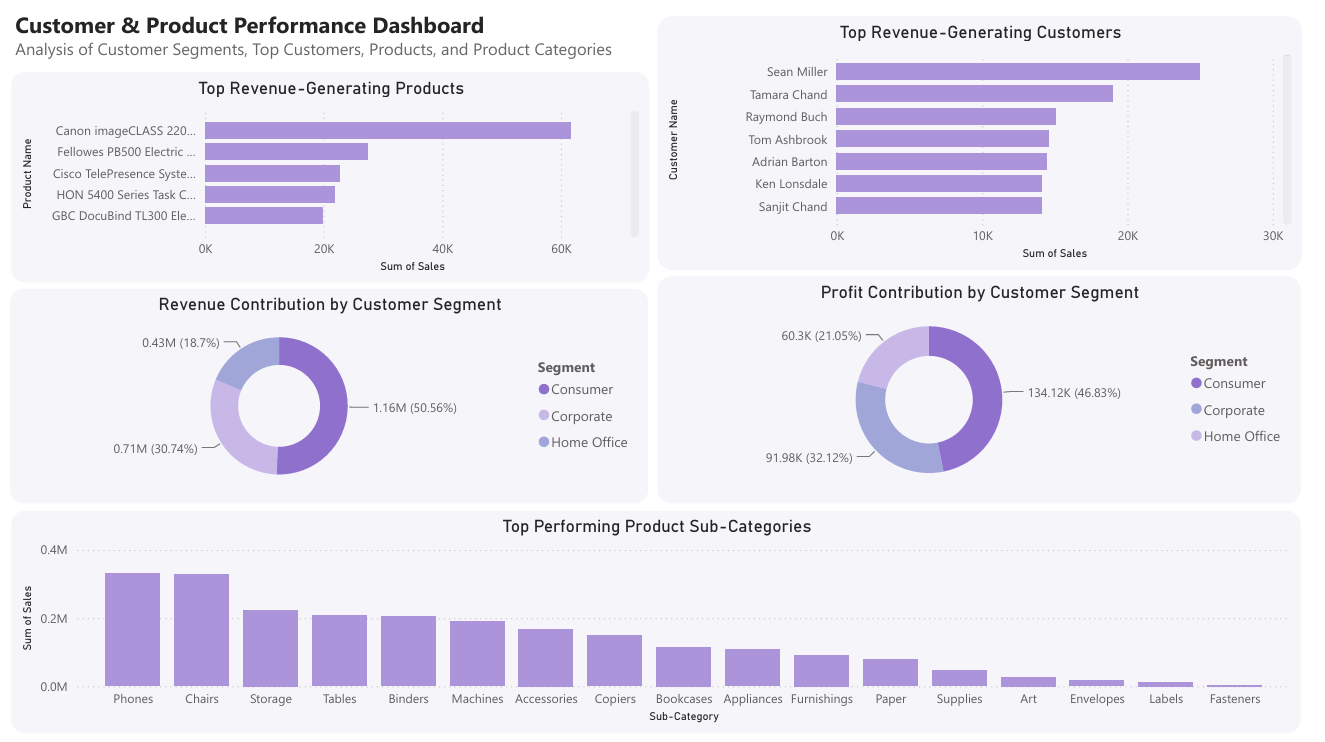

The dashboard page shown, as its layout file describes it:
{"tool":"powerbi","page":{"name":" Customer & Product Analytics Dashboard","canvas":[1280,720],"ordinal":1},"visuals":[{"type":"clusteredBarChart","title":"Top Revenue-Generating Products","fields":{"Category":["Sample - Superstore.Product Name"],"Y":["Sum(Sample - Superstore.Sales)"]},"box":[12.3,65.4,619.2,205.4],"z":0},{"type":"clusteredBarChart","title":"Top Revenue-Generating Customers","fields":{"Category":["Sample - Superstore.Customer Name"],"Y":["Sum(Sample - Superstore.Sales)"]},"box":[637.5,11.2,626.2,247.5],"z":1000},{"type":"donutChart","title":"Revenue Contribution by Customer Segment","fields":{"Category":["Sample - Superstore.Segment"],"Y":["Sum(Sample - Superstore.Sales)"]},"box":[10.9,275.5,620,210],"z":2000},{"type":"donutChart","title":"Profit Contribution by Customer Segment","fields":{"Category":["Sample - Superstore.Segment"],"Y":["Sum(Sample - Superstore.Profit)"]},"box":[637.8,262.8,625.6,222.2],"z":3000},{"type":"columnChart","title":"Top Performing Product Sub-Categories","fields":{"Category":["Sample - Superstore.Sub-Category"],"Y":["Sum(Sample - Superstore.Sales)"]},"box":[12.2,490,1251.1,216.7],"z":4000},{"type":"textbox","box":[12.3,0,673.8,60],"z":5000}]}

Visuals, with their boxes in screenshot pixels (x1, y1, x2, y2), scaled from the page's 1280x720 canvas onto the 1325x742 screenshot:
"Top Revenue-Generating Products" clusteredBarChart: <box>13,67,654,279</box>
"Top Revenue-Generating Customers" clusteredBarChart: <box>660,12,1308,267</box>
"Revenue Contribution by Customer Segment" donutChart: <box>11,284,653,500</box>
"Profit Contribution by Customer Segment" donutChart: <box>660,271,1308,500</box>
"Top Performing Product Sub-Categories" columnChart: <box>13,505,1308,728</box>
textbox: <box>13,0,710,62</box>
